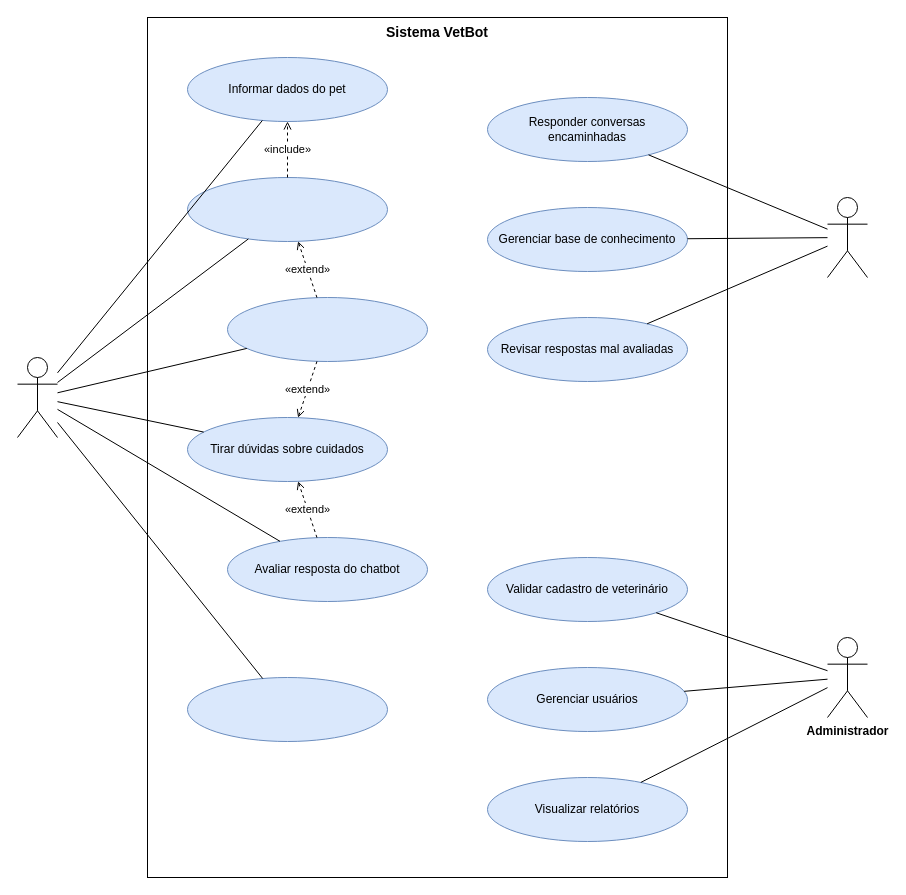
The diagram is 906 pixels wide and 895 high, and some of its shapes have lost their labels. The shapes that lost their labels are listed below. From the top down, each one's centre as x and y in pixels, then its label:
the point at 287,209: Realizar triagem de sintomas
the point at 847,237: Veterinário
the point at 327,329: Solicitar atendimento humano
the point at 37,397: Tutor
the point at 287,709: Consultar vacinação recomendada
